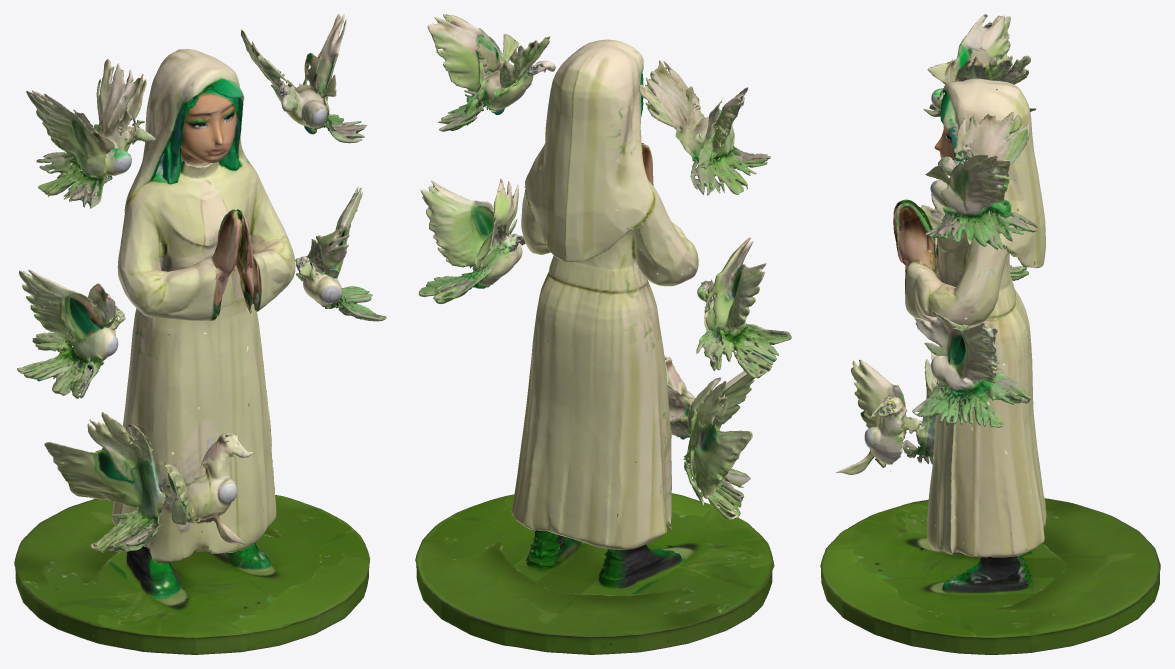
File: Serene_Harmony.glb
The picture shows the model from 3 angles, left to right: view 1: azimuth 30°, elevation 25°; view 2: azimuth 150°, elevation 25°; view 3: azimuth 270°, elevation 25°; orthographic projection. The views are drawn at different scales.
Size of the model in its own units: 1.36 by 2 by 1.23.
1 material, 1 textured.
